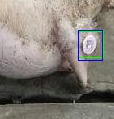text: (78, 31, 103, 57)
